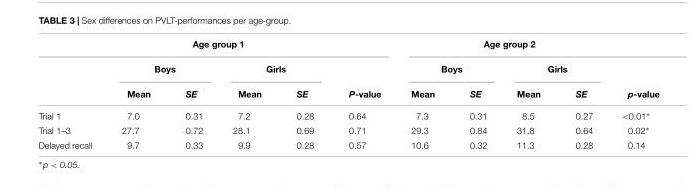table: (37, 37, 658, 149)
table column: (37, 37, 106, 149), (330, 37, 395, 149), (106, 37, 167, 149), (217, 37, 278, 149), (395, 37, 451, 149), (501, 37, 557, 149), (278, 37, 330, 149), (606, 37, 658, 149), (167, 37, 217, 149), (451, 37, 501, 149), (557, 37, 606, 149)
table column header: (37, 37, 658, 103)
table row: (37, 55, 658, 80), (37, 80, 658, 103), (37, 103, 658, 122), (37, 37, 658, 55), (37, 122, 658, 137), (37, 137, 658, 149)
table spanning cell: (37, 37, 395, 55), (395, 37, 658, 55), (330, 55, 395, 103), (217, 55, 330, 80), (106, 55, 217, 80), (395, 55, 501, 80), (501, 55, 606, 80), (606, 55, 658, 103)
